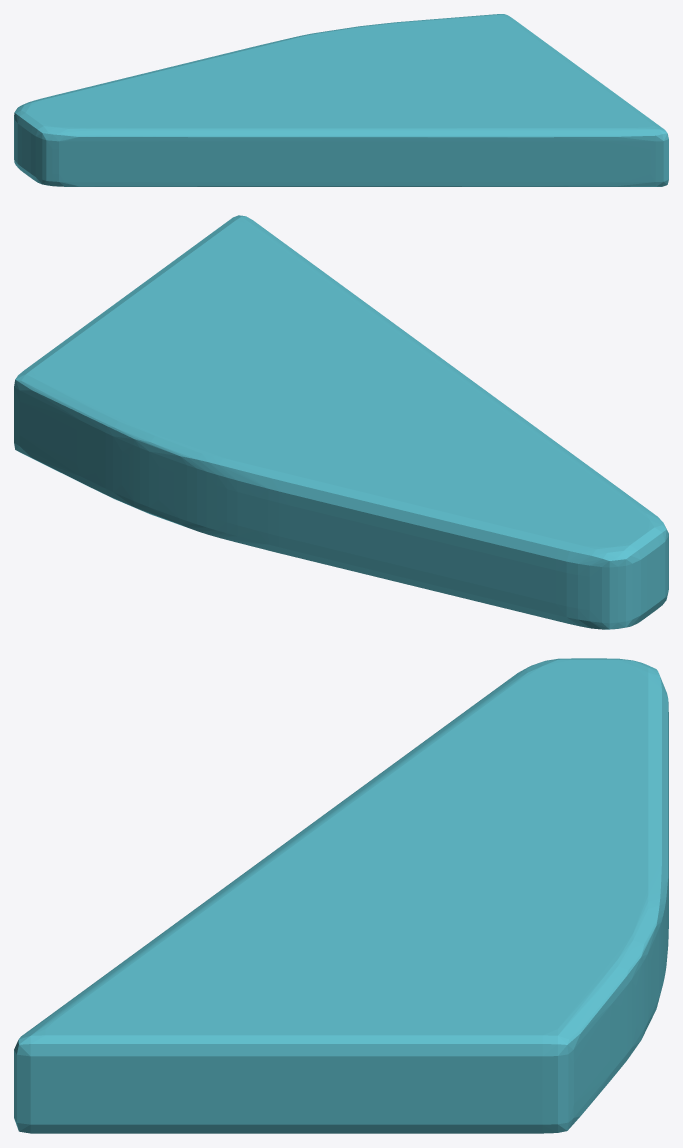
Rendered from right_ankle_link_part_2.obj.
3 views of the same model, one above another, from view 1: azimuth 30°, elevation 25°; view 2: azimuth 150°, elevation 25°; view 3: azimuth 270°, elevation 25° (orthographic). The views are drawn at different scales.
Size of the model in its own units: 0.0764 by 0.00887 by 0.0543.
